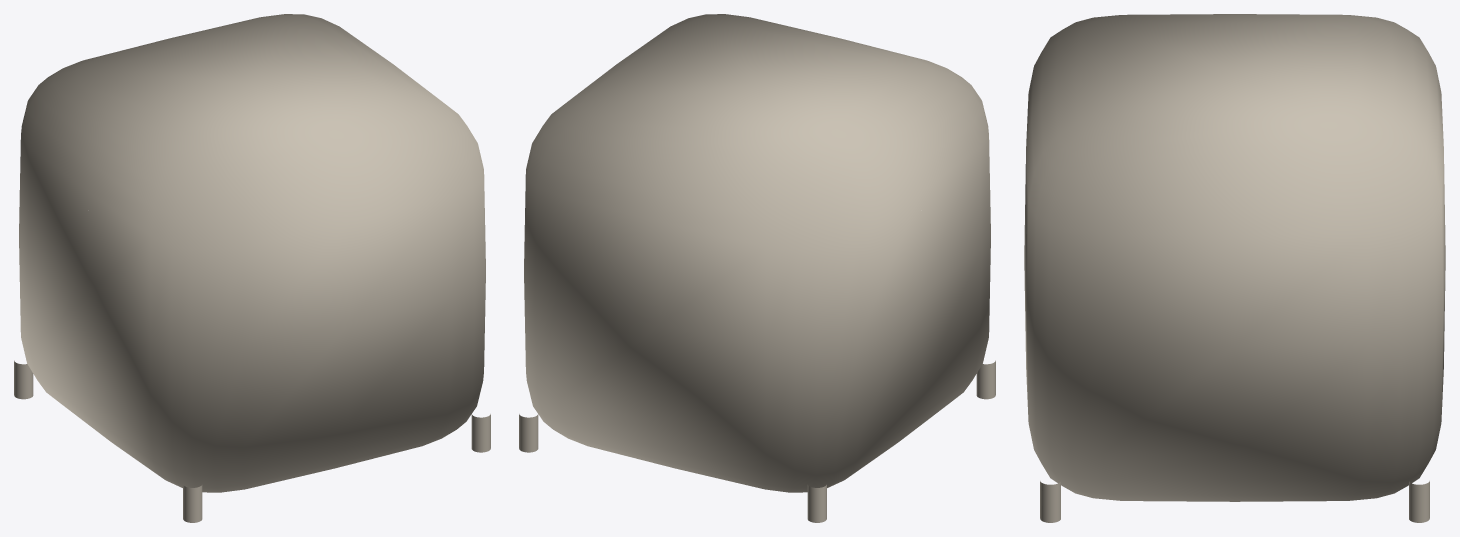
The model's file is wendelbo-atli-wen-333-1-com-g2-proxy.glb.
3 renders of one model, left to right at view 1: azimuth 30°, elevation 25°; view 2: azimuth 150°, elevation 25°; view 3: azimuth 270°, elevation 25°, orthographic. The views are drawn at different scales.
Visible parts, largest first — view 1: proxy_body, leg (×3); view 2: proxy_body, leg (×3); view 3: proxy_body, leg (×2).
Part boxes in pixels (x1,y1,x2,y2): proxy_body: (19,14,485,492); leg (×3): (14,360,490,522); proxy_body: (524,14,990,492); leg (×3): (519,360,995,522); proxy_body: (1024,14,1445,501); leg (×2): (1040,481,1429,522).
Bounding box in the file's own units: 0.79 × 0.77 × 0.8.
